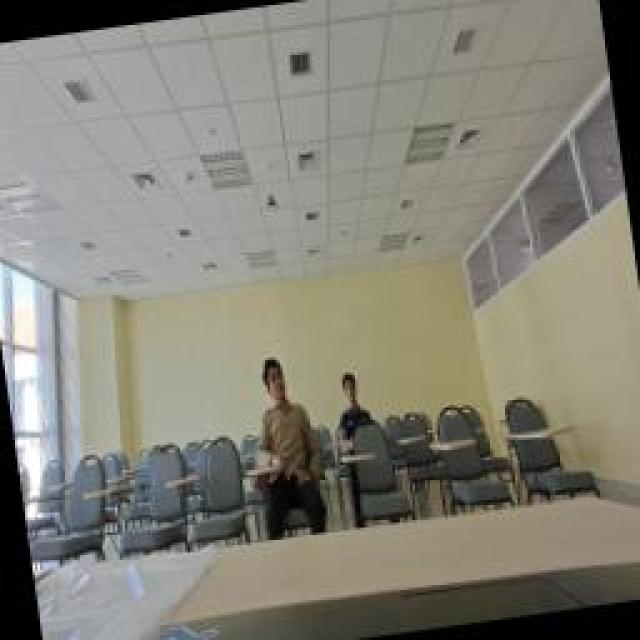study: (240, 350, 332, 542), (330, 365, 378, 457)
